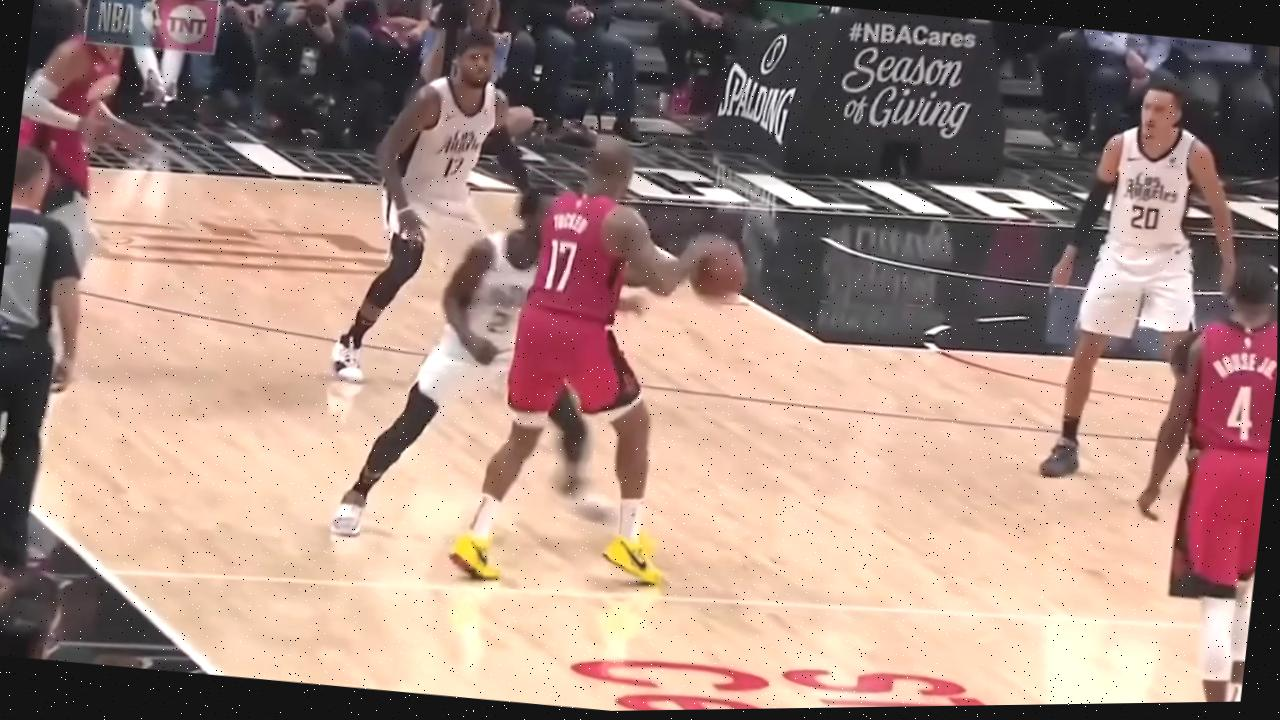no_foul: (393, 128, 735, 599)
